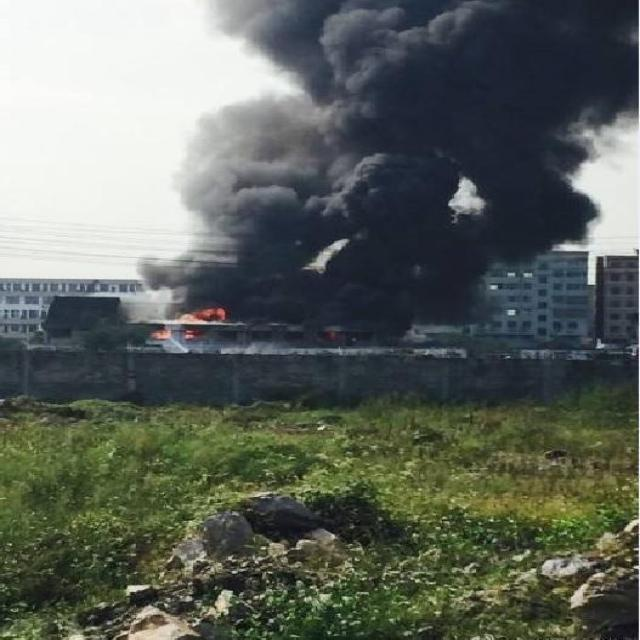Fire: (148, 302, 232, 348)
Smoke: (113, 0, 640, 301)
